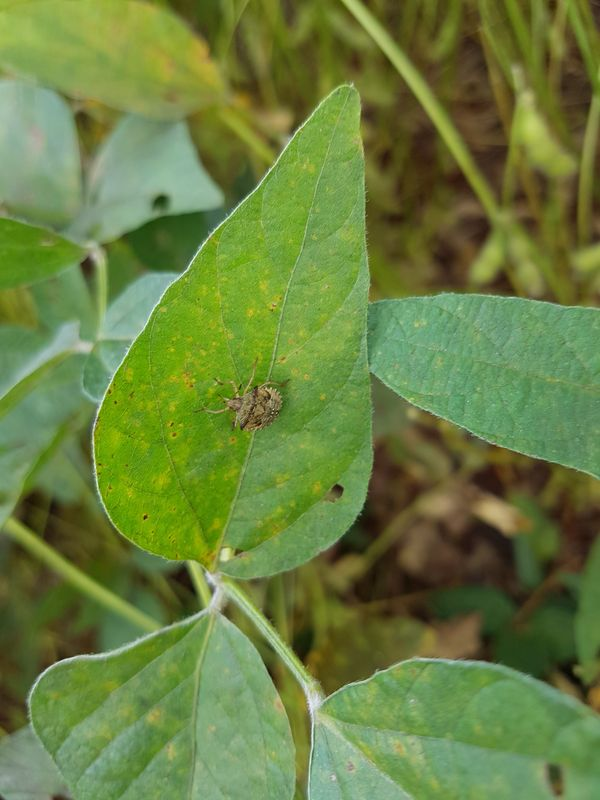Euschistus_heros_ninfa: (191, 347, 297, 446)
